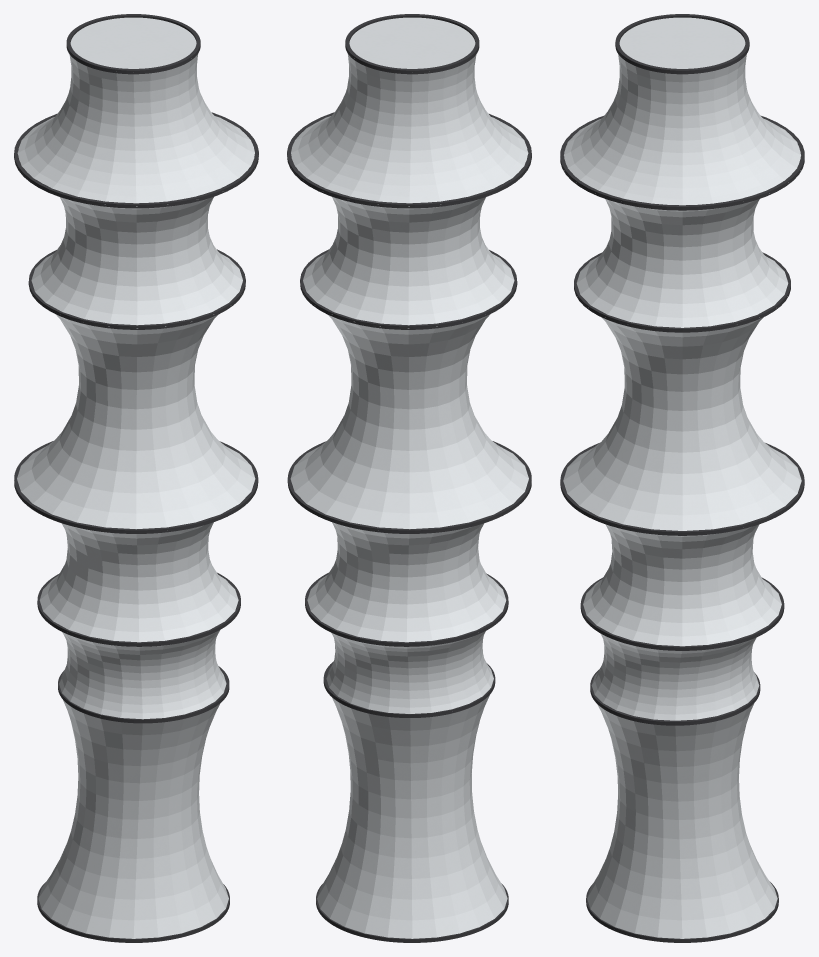
File: falkland.glb
The picture shows the model from 3 angles, left to right: view 1: azimuth 30°, elevation 25°; view 2: azimuth 150°, elevation 25°; view 3: azimuth 270°, elevation 25°; orthographic projection.
Parts seen in each view (by area): view 1: falkland; view 2: falkland; view 3: falkland.
Part boxes in pixels (box(x1,y1,x2,y2)): falkland: box(14, 14, 258, 942); falkland: box(287, 14, 531, 942); falkland: box(560, 14, 804, 942).
Bounding box in the file's own units: 0.4492 × 1.74 × 0.4492.
2 materials, 1 textured.
